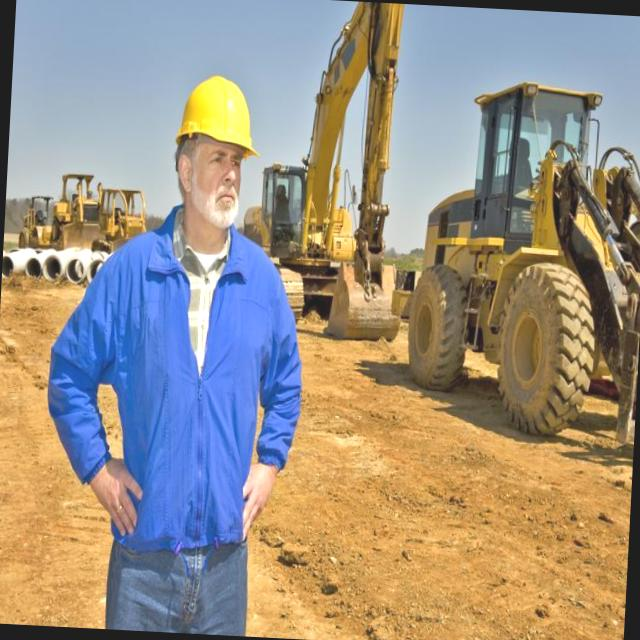helmet: (165, 66, 264, 165)
no-vest: (76, 214, 296, 556)
